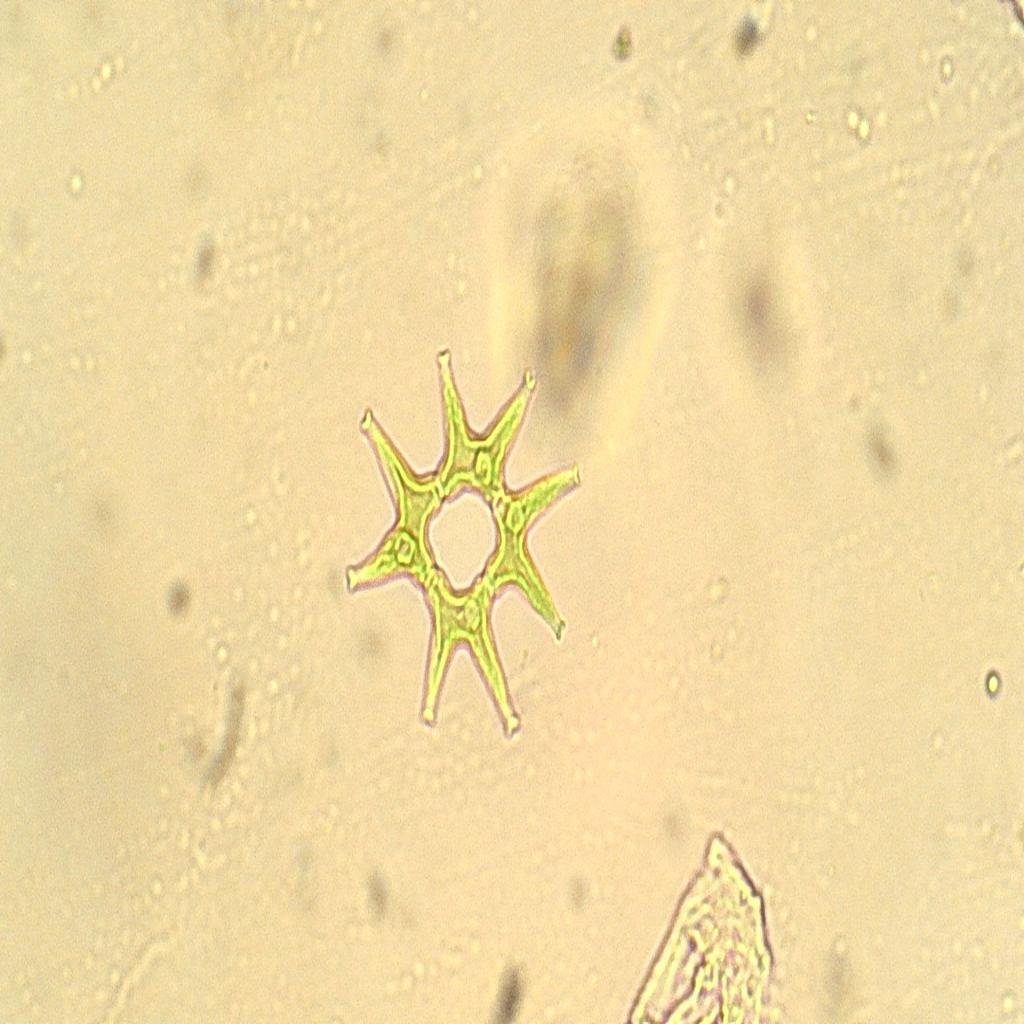Pediastrum_CO: (314, 336, 604, 767)
